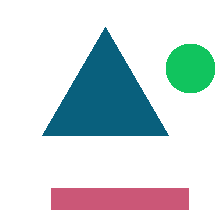circle: (166, 44, 214, 92)
rectangle: (51, 188, 188, 209)
triangle: (42, 27, 168, 135)
